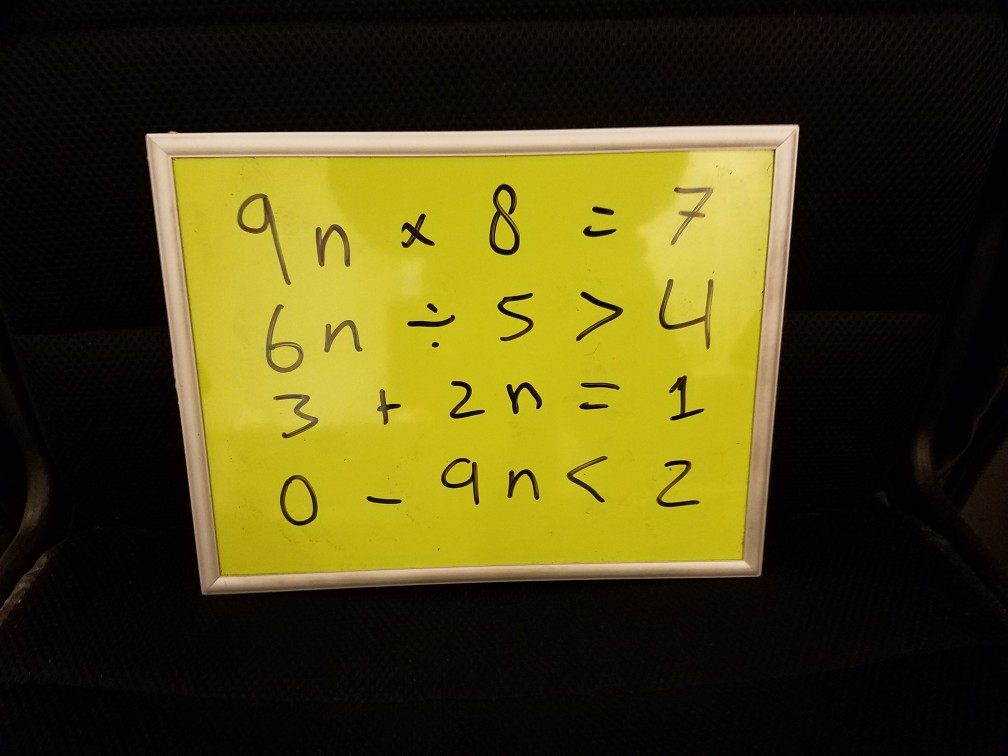+: (368, 382, 405, 429)
-: (359, 485, 406, 513)
0: (275, 469, 324, 530)
1: (659, 370, 710, 427)
2: (651, 448, 707, 517), (442, 375, 489, 426)
3: (268, 385, 324, 441)
4: (653, 269, 723, 351)
5: (492, 286, 544, 350)
6: (256, 297, 310, 375)
7: (663, 171, 715, 247)
8: (485, 174, 527, 266)
9: (234, 191, 293, 285), (435, 453, 485, 512)
<: (563, 448, 613, 512)
=: (569, 374, 626, 416), (579, 198, 623, 242)
>: (568, 281, 629, 346)
div: (400, 298, 464, 352)
n: (311, 216, 354, 277), (499, 375, 551, 421), (321, 315, 366, 363), (504, 462, 542, 507)
x: (397, 207, 434, 254)
